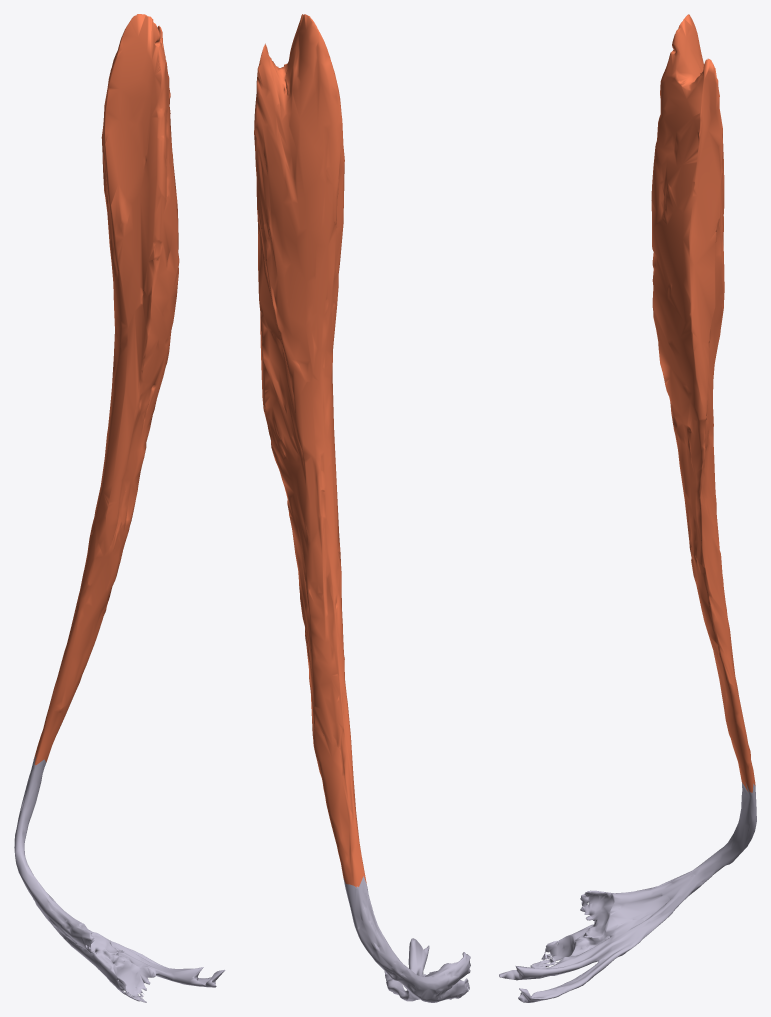
The model's file is Tibialis_posterior_left.glb.
3 views of the same model, side by side, from view 1: azimuth 30°, elevation 25°; view 2: azimuth 150°, elevation 25°; view 3: azimuth 270°, elevation 25° (orthographic). The views are drawn at different scales.
Visible parts, largest first — view 1: Tibialis_posterior_muscle.l_Generated_Mesh_From_X3D.152; view 2: Tibialis_posterior_muscle.l_Generated_Mesh_From_X3D.152; view 3: Tibialis_posterior_muscle.l_Generated_Mesh_From_X3D.152.
Part boxes in pixels (box(x1,y1,x2,y2)): Tibialis_posterior_muscle.l_Generated_Mesh_From_X3D.152: box(14, 14, 225, 1002); Tibialis_posterior_muscle.l_Generated_Mesh_From_X3D.152: box(254, 14, 470, 1002); Tibialis_posterior_muscle.l_Generated_Mesh_From_X3D.152: box(499, 14, 756, 1002).
Size of the model in its own units: 0.0589 by 0.3438 by 0.0811.
